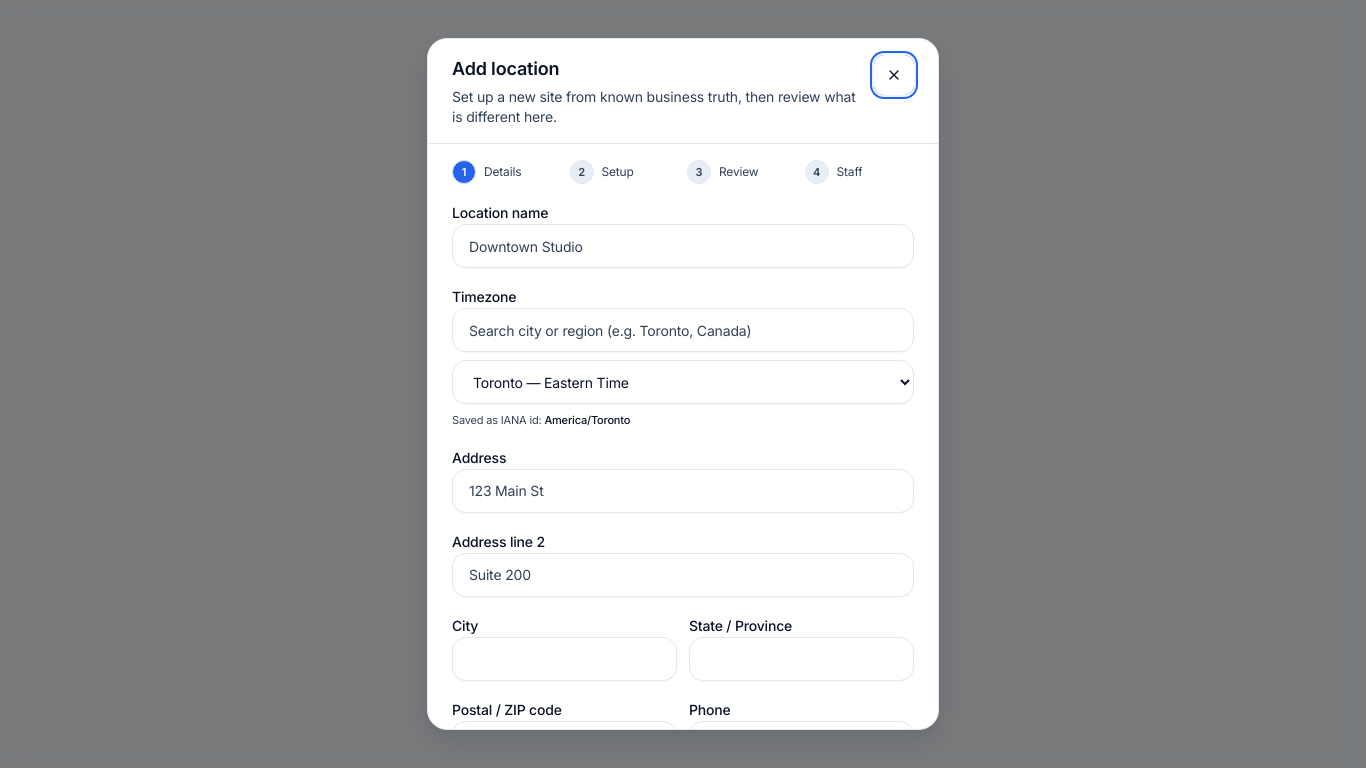
it: Stage 1C Add Location workflow › shows all seven days, split ranges and copied settings in the new timezone
Type "Downtown" into the field labelled "Location name" at [683, 246], box [452,224,914,268]
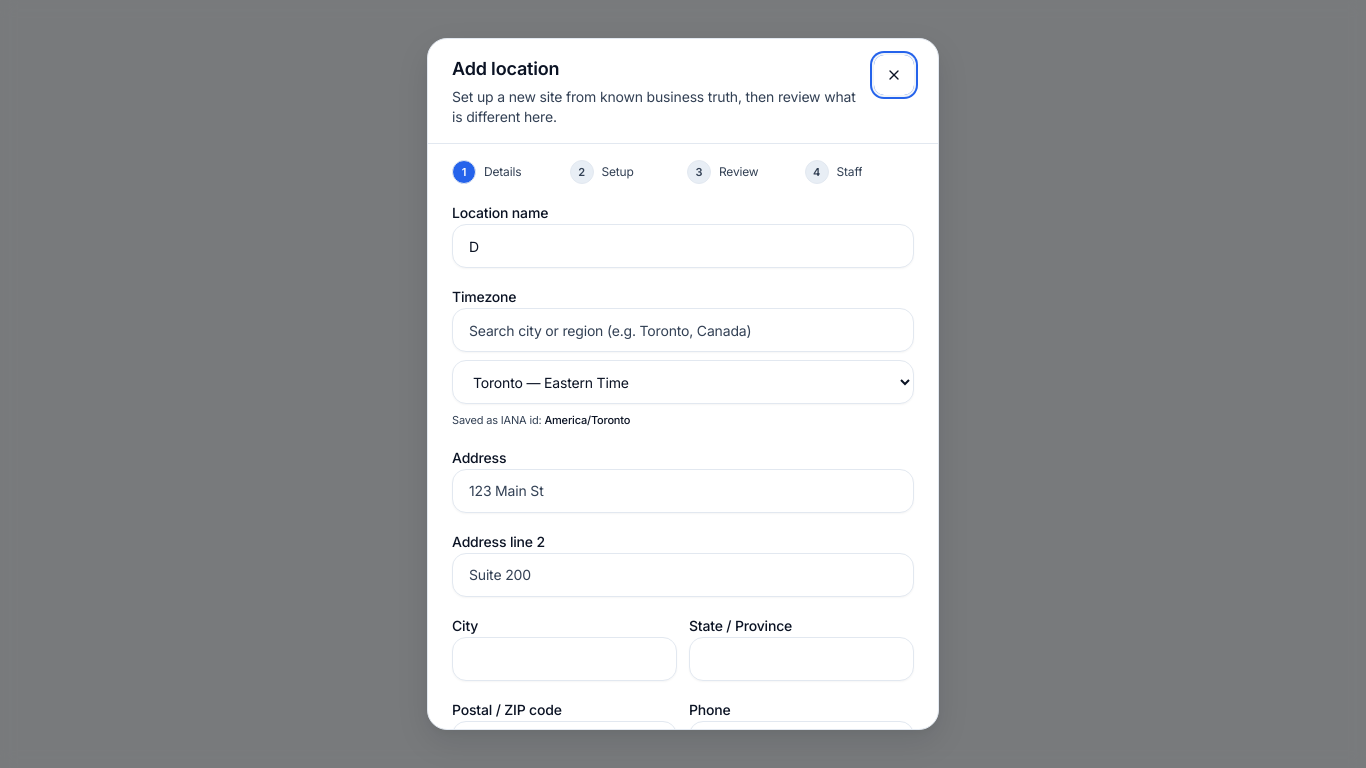
Select "Vancouver — Pacific Time" in the dropdown labelled "Timezone" at [683, 382], box [452,360,914,404]
(page scrolled)
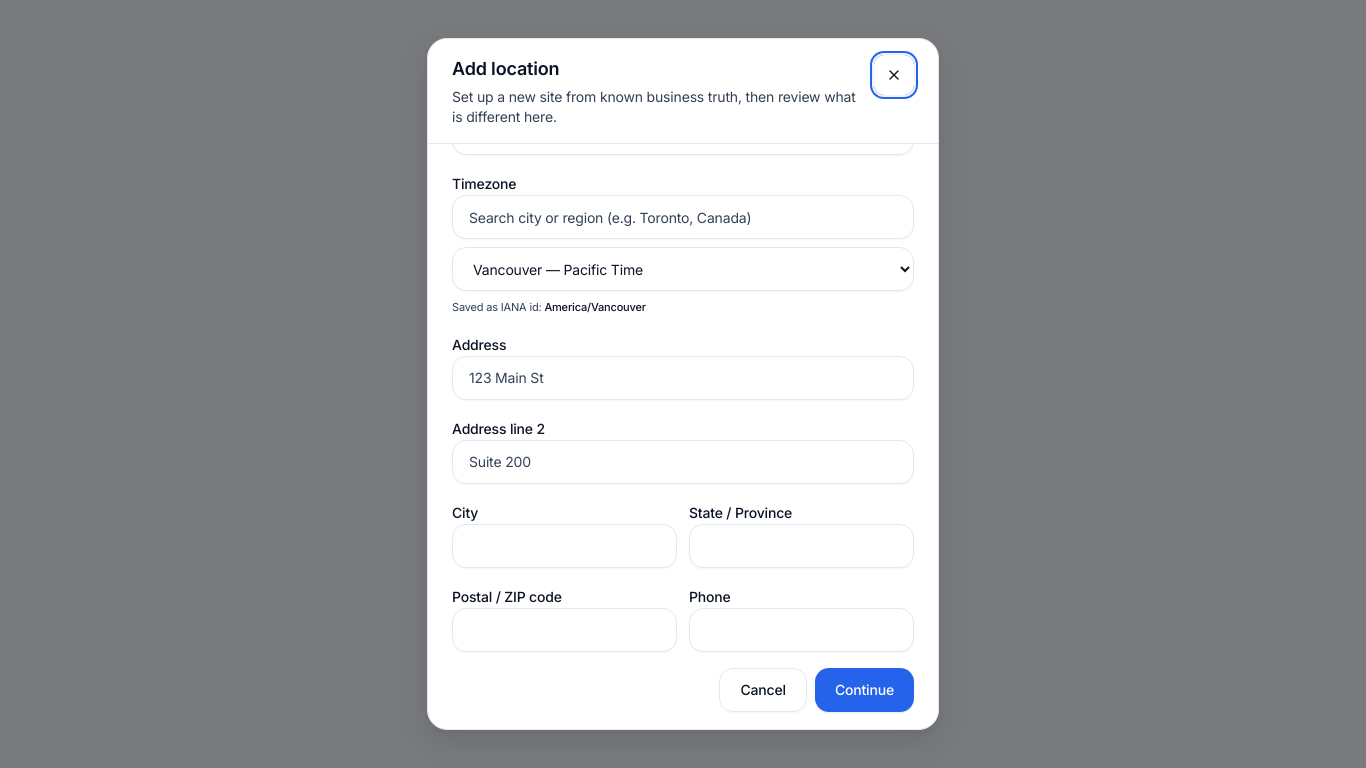
Click the button "Continue" at [864, 690], box [815,668,914,712]
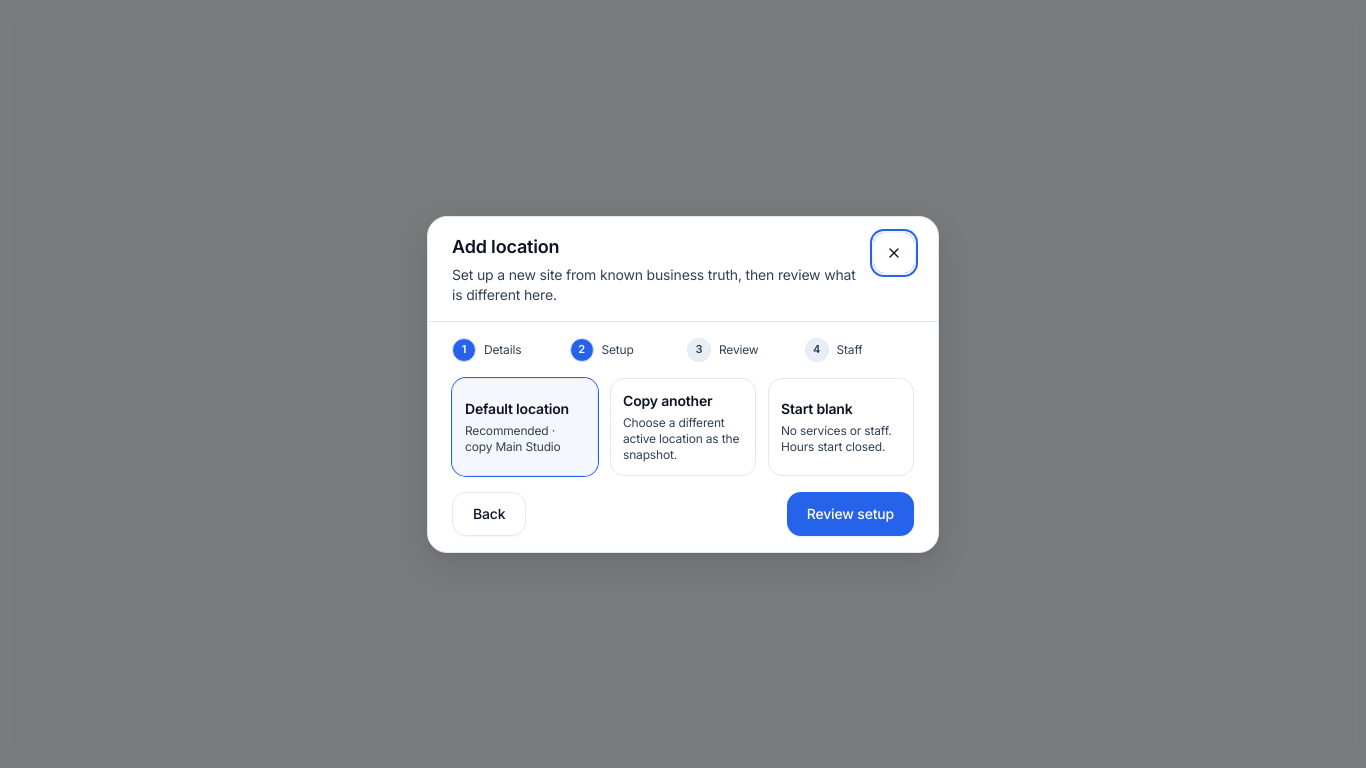
Click the button "Review setup" at [850, 514], box [787,492,914,536]
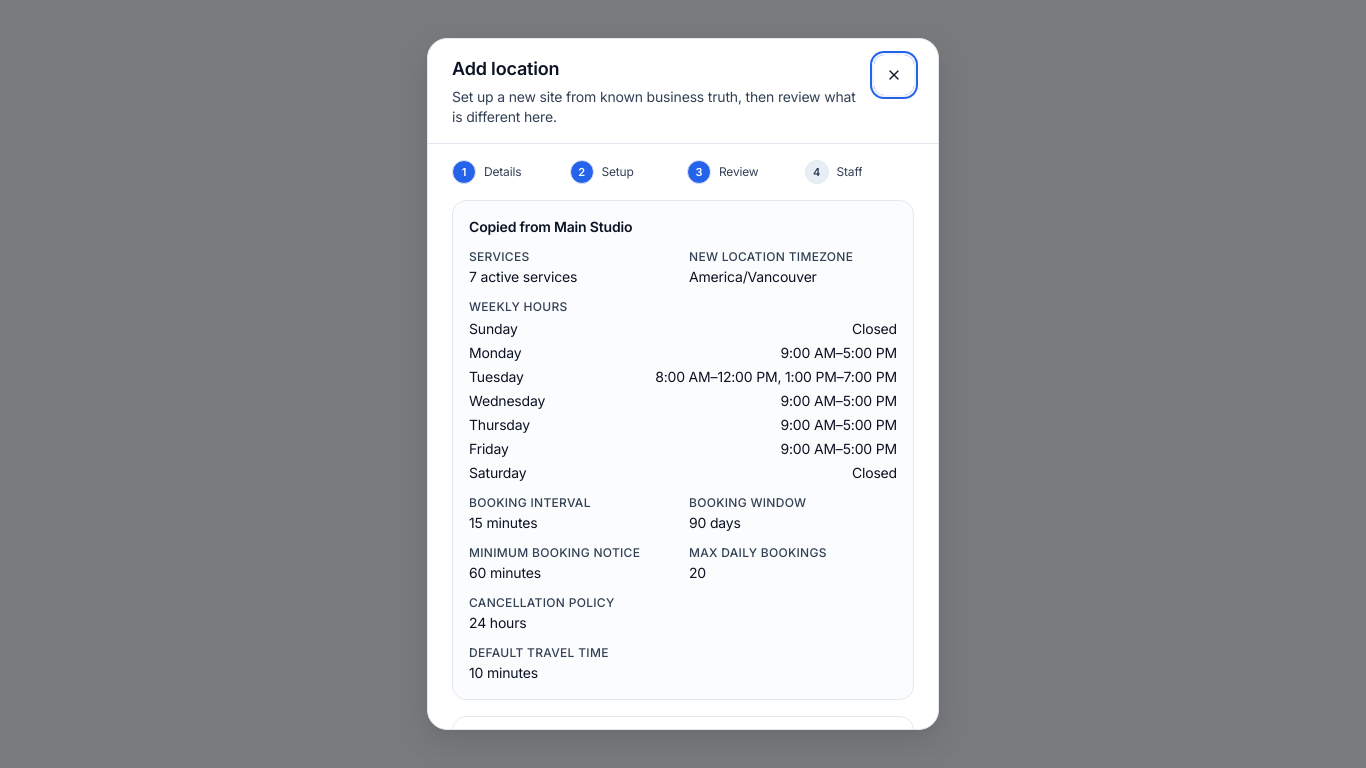
Expected: the text "Copied from Main Studio" is shown, [469,218,632,235]
Expected: the text "7 active services" is shown, [469,268,577,285]
Expected: the text "Sunday" is shown, [469,319,518,339]
